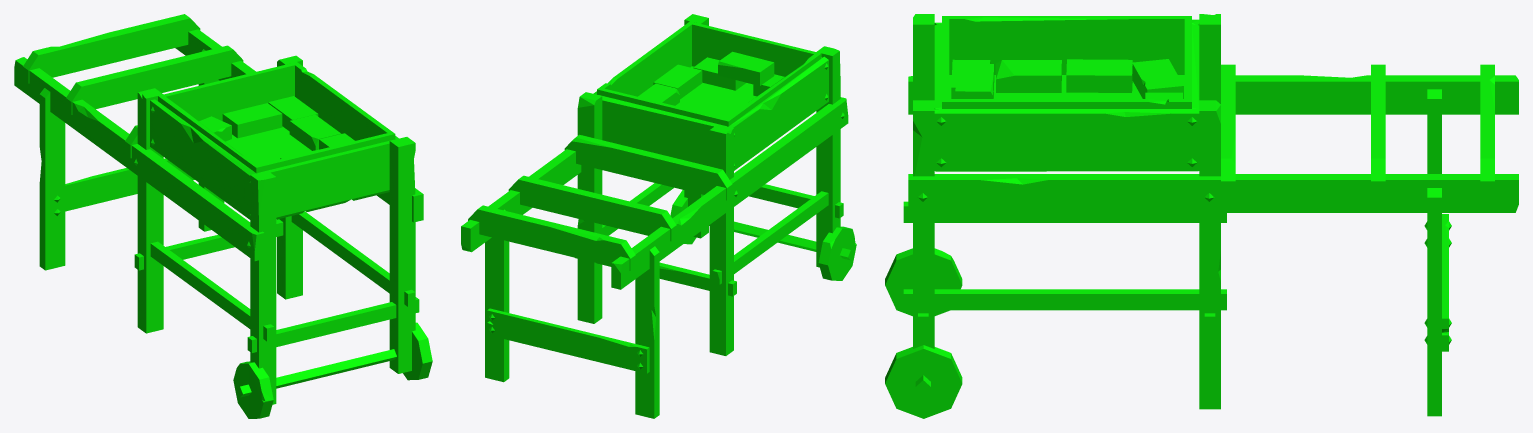
Rendered from SM_Forge_Mobile_Wooden.fbx.
The picture shows the model from 3 angles, left to right: view 1: azimuth 30°, elevation 25°; view 2: azimuth 150°, elevation 25°; view 3: azimuth 270°, elevation 25°; orthographic projection. The views are drawn at different scales.
Visible parts, largest first — view 1: forge-mobile-wooden; view 2: forge-mobile-wooden; view 3: forge-mobile-wooden.
Part boxes in pixels (x1,y1,x2,y2): forge-mobile-wooden: (14,14,432,418); forge-mobile-wooden: (461,14,856,418); forge-mobile-wooden: (885,14,1518,418).
Size of the model in its own units: 0.7486 by 0.9317 by 1.74.
